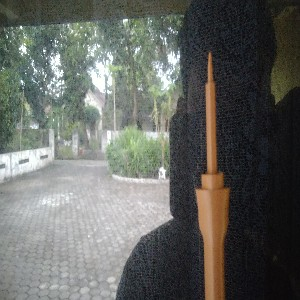solder: (195, 51, 232, 300)
